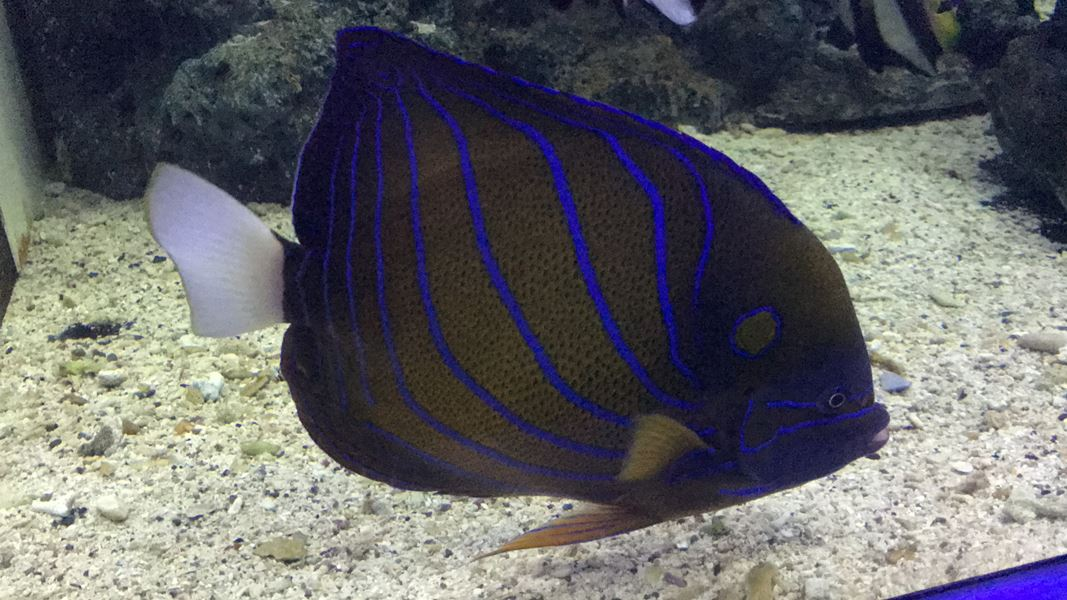Blue ring angelfish: (109, 12, 907, 573)
